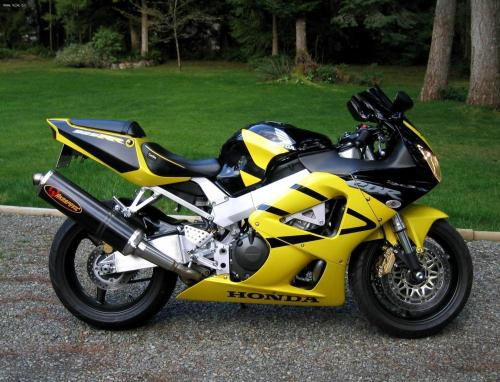motor: (29, 77, 473, 339)
